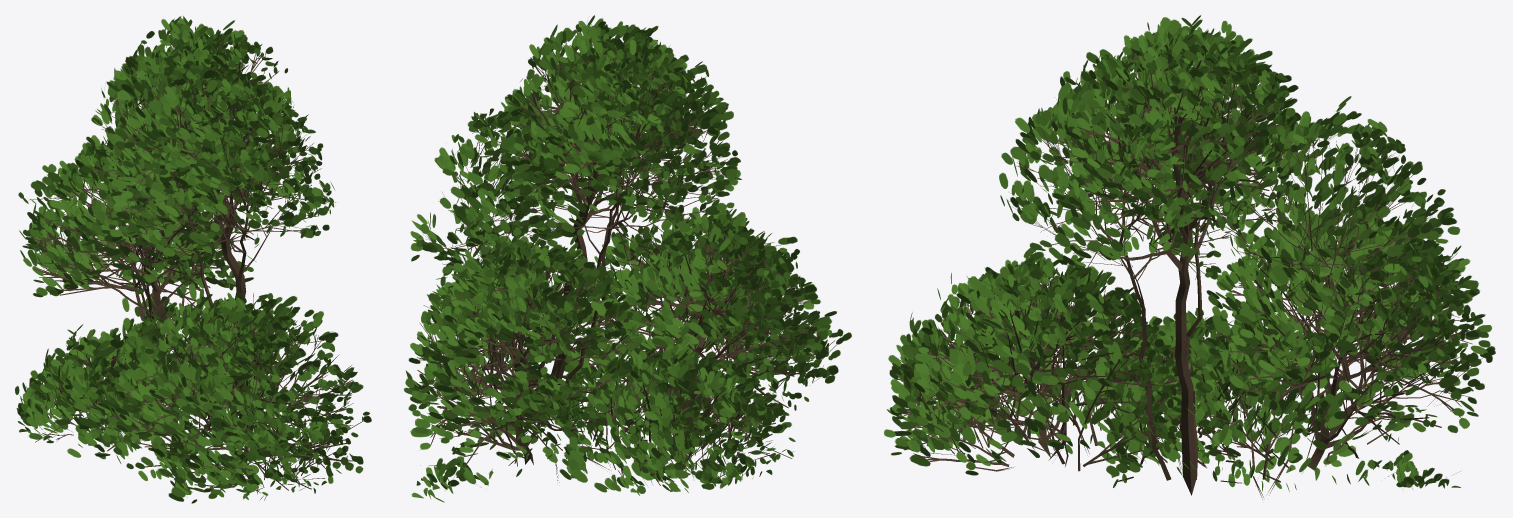
3 renders of one model, left to right at view 1: azimuth 30°, elevation 25°; view 2: azimuth 150°, elevation 25°; view 3: azimuth 270°, elevation 25°, orthographic. The views are drawn at different scales.
Parts seen in each view (by area): view 1: oak 01.001_trunk_Mat.001_0.307; view 2: oak 01.001_trunk_Mat.001_0.307; view 3: oak 01.001_trunk_Mat.001_0.307.
Part boxes in pixels (left/top/right/bottom): oak 01.001_trunk_Mat.001_0.307: left=15, top=16, right=371, bottom=503; oak 01.001_trunk_Mat.001_0.307: left=404, top=15, right=851, bottom=502; oak 01.001_trunk_Mat.001_0.307: left=884, top=15, right=1495, bottom=499.
Size of the model in its own units: 2.93 by 4.15 by 5.14.
Materials: 2 (1 with a texture image).
